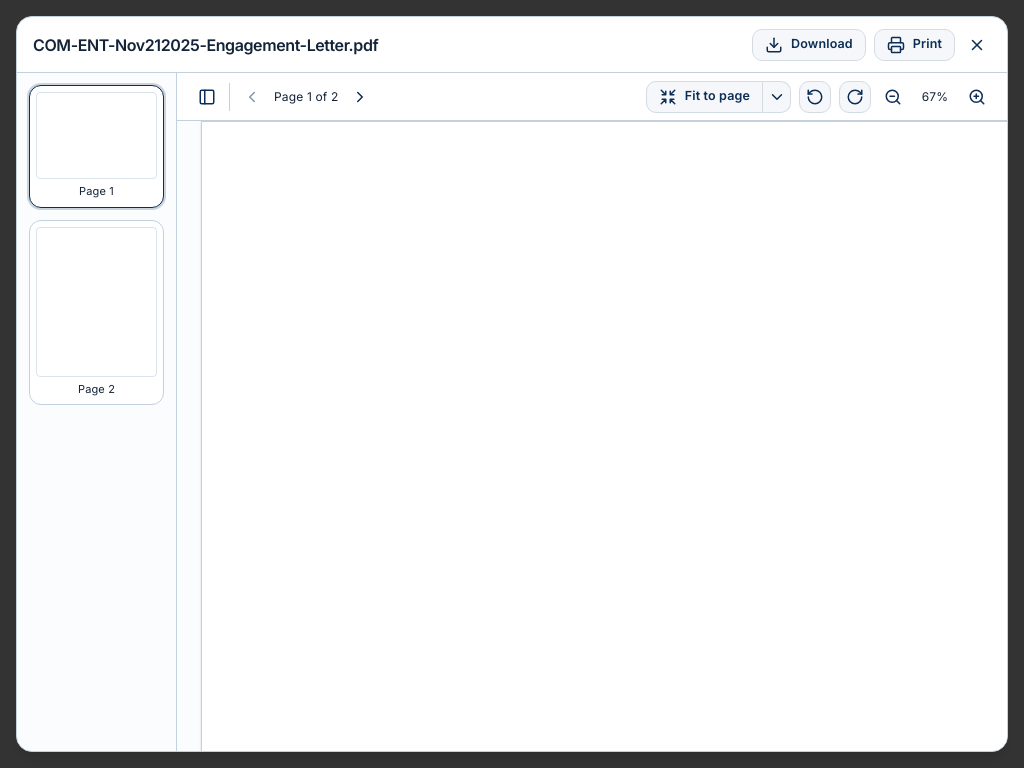
Engagement Letter Preview modal › cycles Fit button states, shows active dropdown checkmark, recomputes on resize/page/rotation, and turns Fit off on zoom
Earlier steps of the test are not shown.
(page scrolled)
Click the button named "Zoom in" at (977,96), box 963,82 -> 991,110
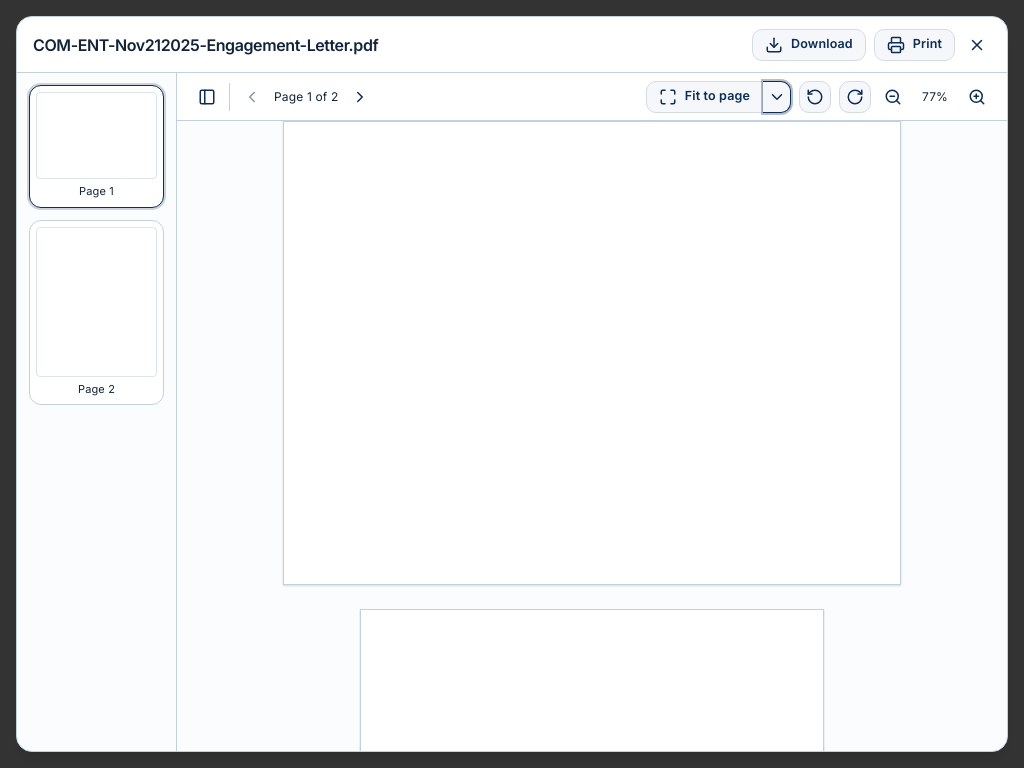
Expected: the button "Fit to page" is not pressed, 646,80 -> 763,112
